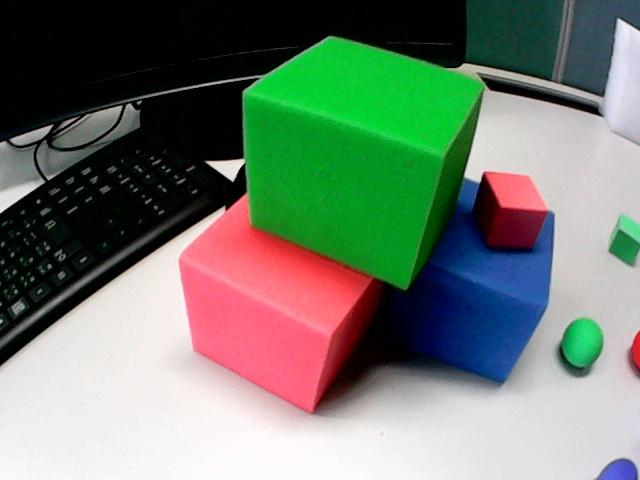blue_block: (385, 179, 553, 381)
red_block: (179, 196, 381, 411), (474, 172, 547, 248)
